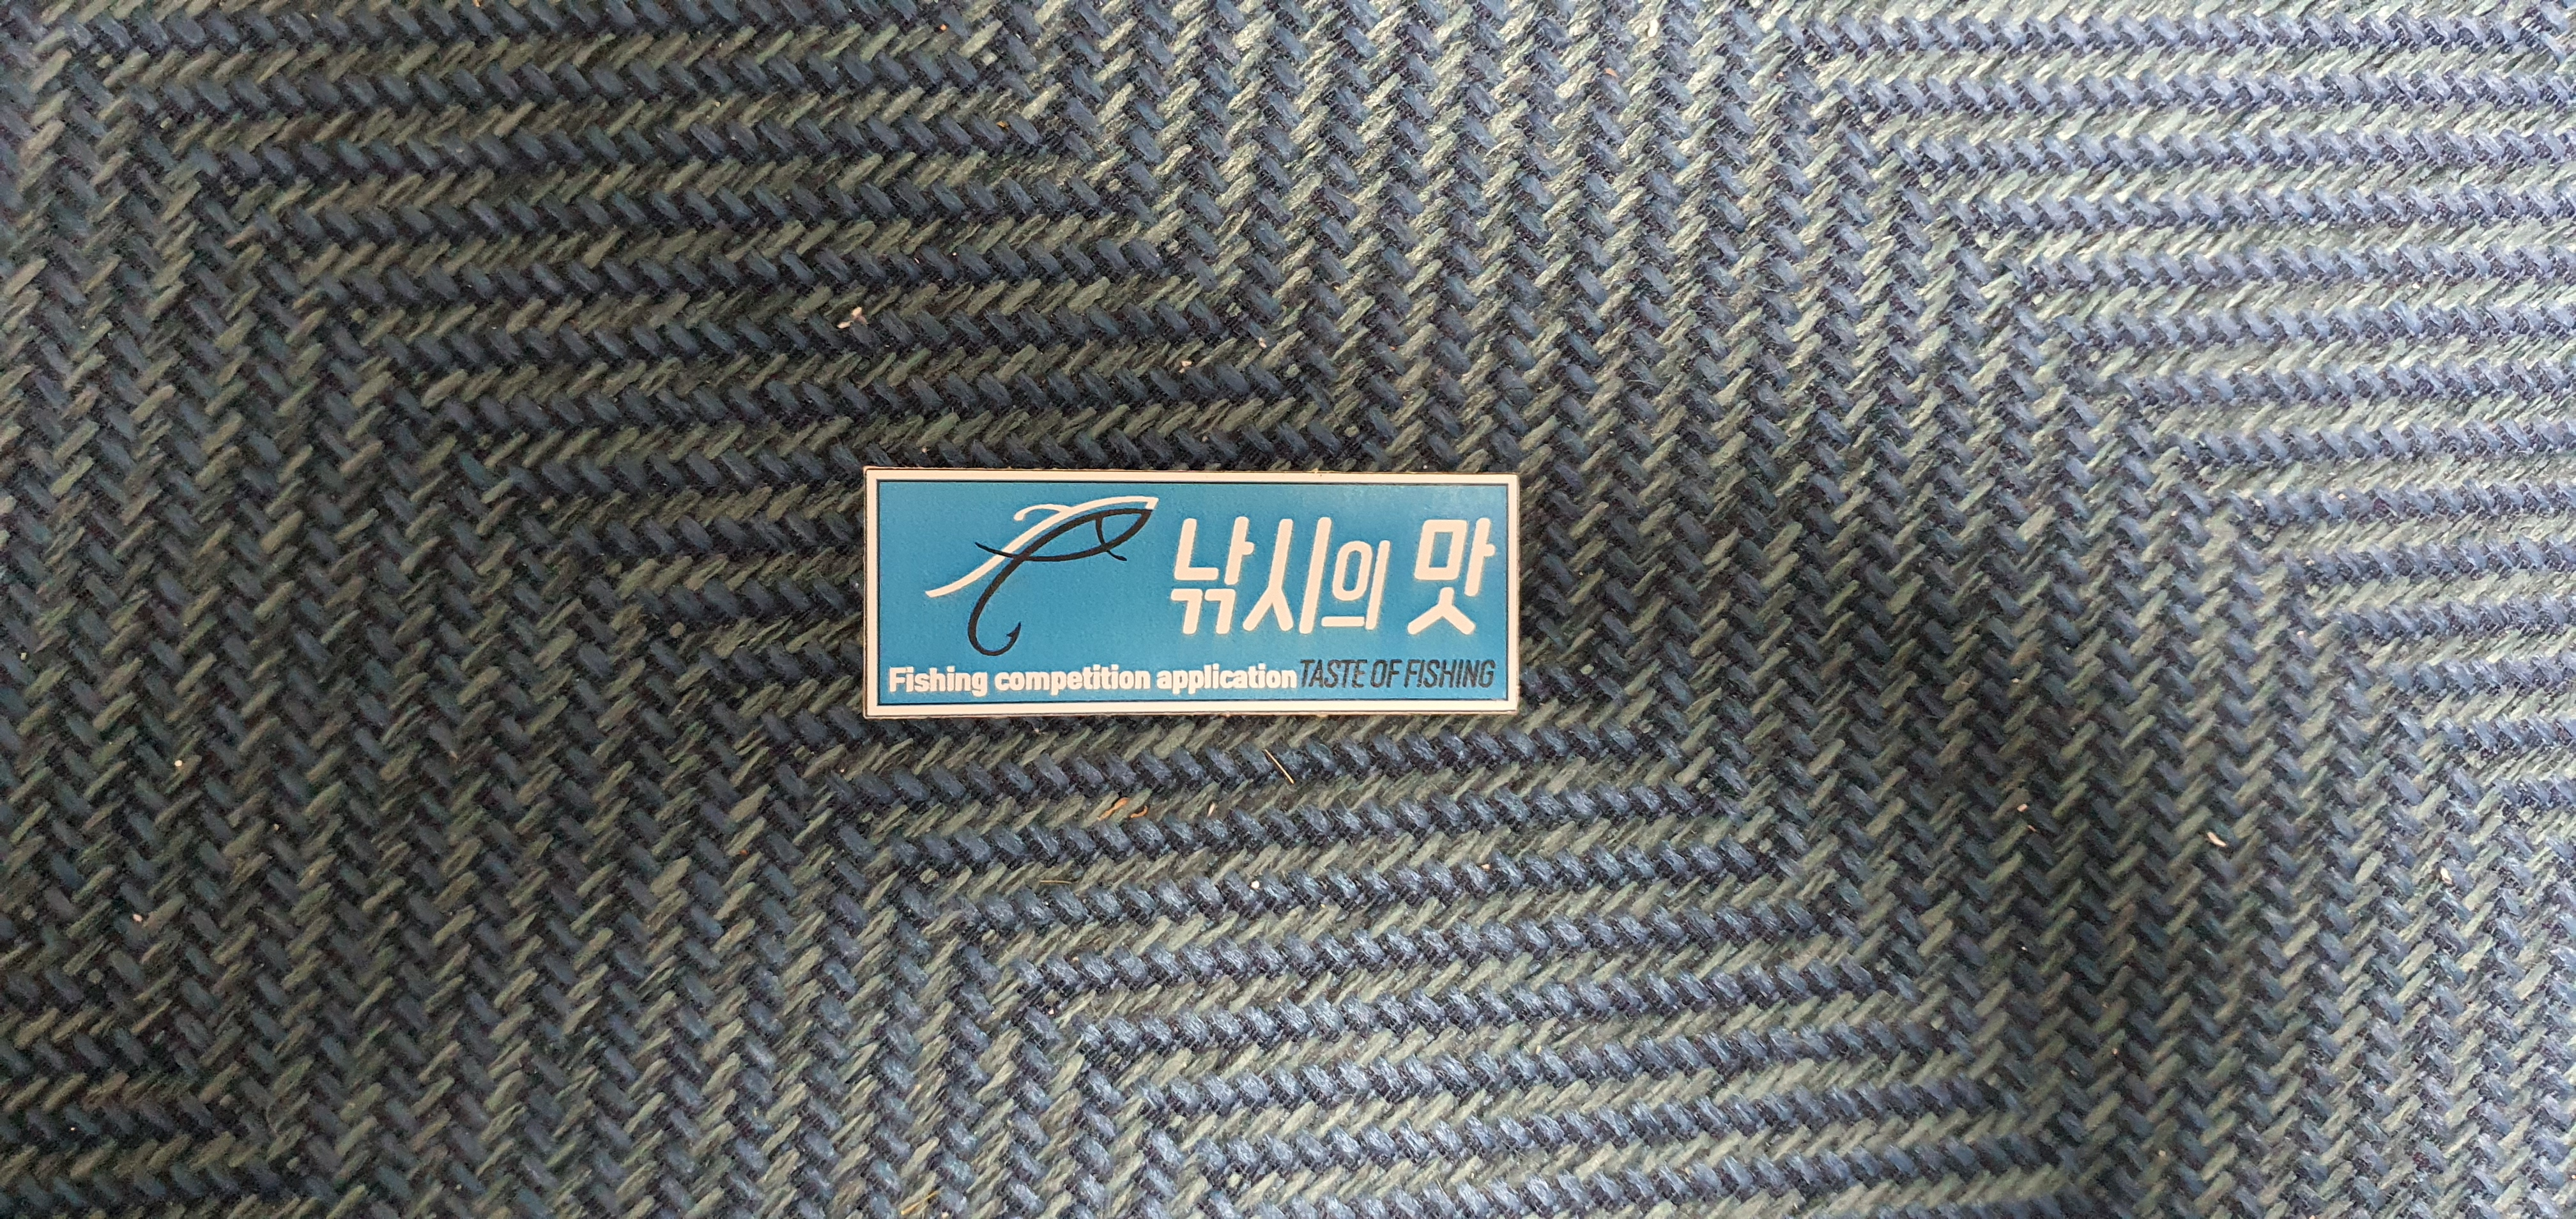tag: (862, 468, 1516, 713)
